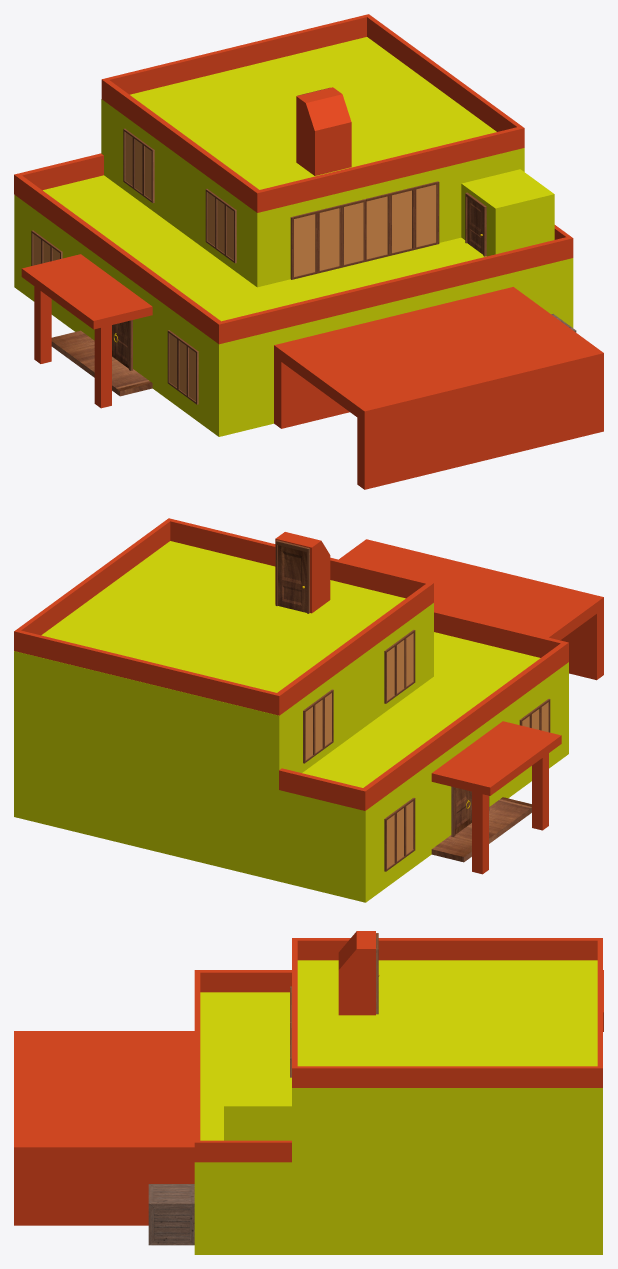
Rendered from House with garage 104.fbx.
3 renders of one model, top to bottom at view 1: azimuth 30°, elevation 25°; view 2: azimuth 150°, elevation 25°; view 3: azimuth 270°, elevation 25°, orthographic.
Parts seen in each view (by area): view 1: Cube.002, Cube.001, Cube, Cube.003, Cube.004, Cube.006, Cube.008, Cube.005, Cube.023, Cube.025, Cube.009, Cube.024 (+11 smaller); view 2: Cube.001, Cube, Cube.003, Cube.002, Cube.004, Cube.008, Cube.009, Cube.027, Cube.005, Cube.011, Cube.010, Cube.021 (+7 smaller); view 3: Cube.001, Cube, Cube.002, Cube.003, Cube.004, Cube.006, Cube.005, Cube.007.
Boxes of the visible parts, x1,y1,x2,y2 form: Cube.002: (274, 287, 603, 489); Cube.001: (101, 37, 524, 287); Cube: (14, 175, 573, 436); Cube.003: (101, 14, 524, 212); Cube.004: (14, 153, 573, 344); Cube.006: (461, 169, 554, 256); Cube.008: (21, 254, 152, 329); Cube.005: (296, 87, 351, 175); Cube.023: (294, 202, 363, 276); Cube.025: (366, 184, 436, 259); Cube.009: (51, 330, 152, 396); Cube.024: (290, 199, 366, 279); Cube.001: (14, 541, 433, 789); Cube: (14, 632, 568, 902); Cube.003: (14, 518, 433, 715); Cube.002: (339, 539, 603, 680); Cube.004: (279, 609, 568, 810); Cube.008: (431, 721, 561, 795); Cube.009: (431, 797, 531, 862); Cube.027: (278, 545, 306, 612); Cube.005: (275, 532, 330, 613); Cube.011: (472, 791, 488, 874); Cube.010: (532, 753, 548, 830); Cube.021: (387, 633, 413, 700); Cube.001: (292, 960, 602, 1162); Cube: (194, 992, 602, 1254); Cube.002: (14, 1031, 194, 1225); Cube.003: (292, 938, 602, 1087); Cube.004: (194, 970, 603, 1162); Cube.006: (224, 1077, 291, 1140); Cube.005: (338, 931, 375, 1015); Cube.007: (148, 1184, 194, 1245).
Bounding box in the file's own units: 1400 × 788 × 1734.
